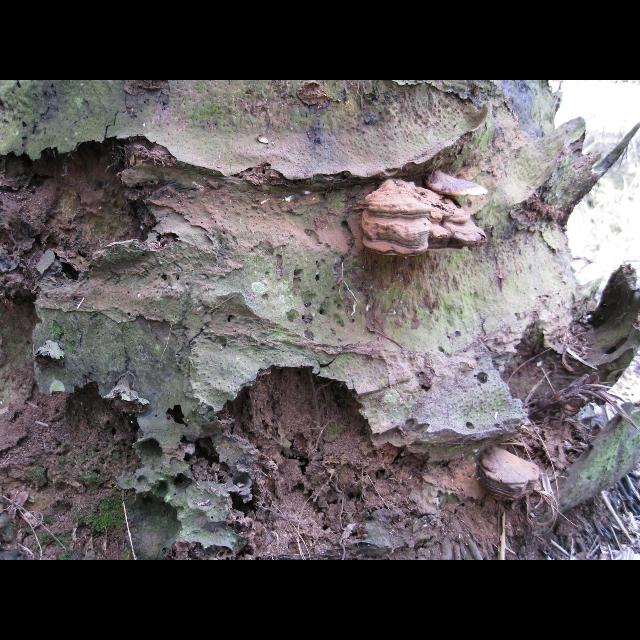ganoderma: (361, 181, 492, 260), (478, 445, 545, 504), (424, 168, 493, 200)
